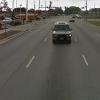Car: (48, 14, 78, 52)
